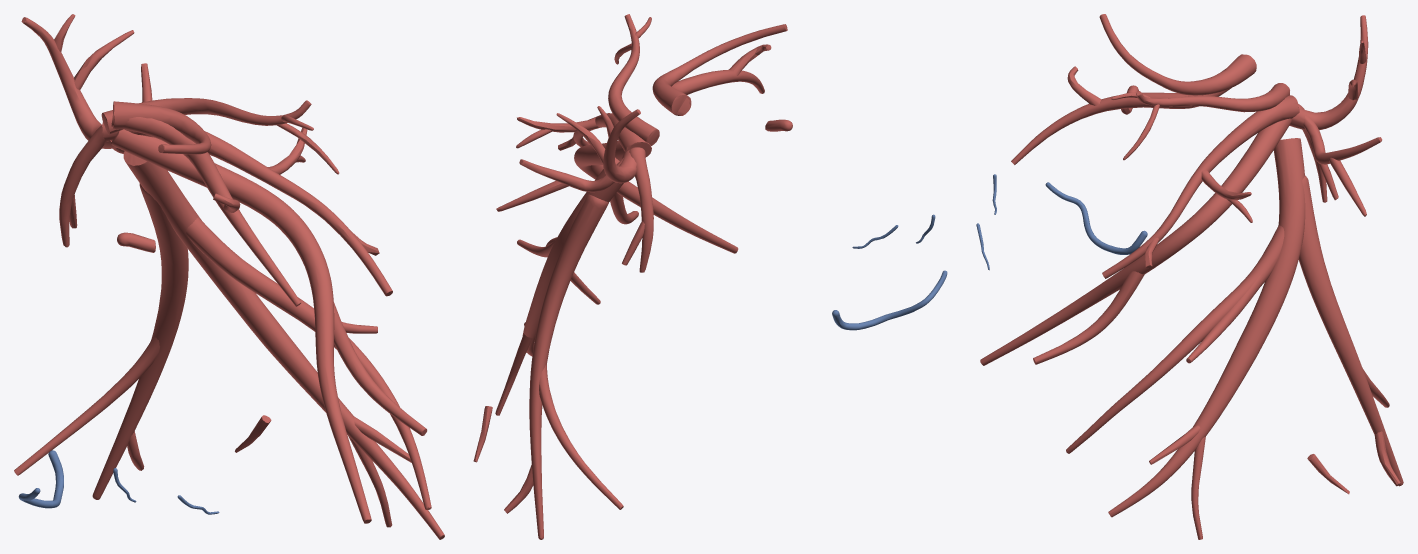
Rendered from thorax-9.glb.
3 renders of one model, left to right at view 1: azimuth 30°, elevation 25°; view 2: azimuth 150°, elevation 25°; view 3: azimuth 270°, elevation 25°, orthographic. The views are drawn at different scales.
Visible parts, largest first — view 1: FJ2896, FJ2883, FJ2881, FJ2884, FJ2898, FJ2906, FJ2908, FJ2903, FJ2902, FJ2897, FJ2888, FJ2891 (+5 smaller); view 2: FJ2881, FJ2896, FJ2908, FJ2883, FJ2902, FJ2903, FJ2891, FJ2906, FJ2888, FJ2894, FJ2731, FJ2898 (+3 smaller); view 3: FJ2883, FJ2896, FJ2881, FJ2884, FJ2898, FJ2908, FJ2906, FJ2902, FJ2897, FJ2888, FJ2894, FJ2885 (+4 smaller).
Part boxes in pixels (box(x1,y1,x2,y2)): FJ2896: box(111, 129, 371, 523); FJ2883: box(123, 151, 444, 539); FJ2881: box(92, 183, 188, 499); FJ2884: box(186, 217, 431, 509); FJ2898: box(102, 122, 392, 296); FJ2906: box(111, 111, 300, 306); FJ2908: box(112, 101, 211, 154); FJ2903: box(14, 337, 159, 475); FJ2902: box(101, 98, 311, 134); FJ2897: box(333, 302, 427, 435); FJ2888: box(21, 17, 116, 148); FJ2891: box(59, 125, 104, 247); FJ2881: box(529, 194, 608, 539); FJ2896: box(574, 141, 738, 253); FJ2908: box(652, 24, 787, 115); FJ2883: box(522, 157, 623, 356); FJ2902: box(608, 14, 659, 145); FJ2903: box(539, 364, 623, 509); FJ2891: box(629, 147, 653, 272); FJ2906: box(672, 69, 764, 114); FJ2888: box(603, 109, 640, 183); FJ2894: box(519, 158, 623, 192); FJ2731: box(832, 270, 947, 330); FJ2898: box(573, 113, 651, 156); FJ2883: box(1108, 138, 1305, 517); FJ2896: box(980, 118, 1291, 365); FJ2881: box(1298, 175, 1403, 486); FJ2884: box(1066, 225, 1284, 453); FJ2898: box(1102, 95, 1299, 278); FJ2908: box(1099, 14, 1256, 95); FJ2906: box(1011, 88, 1231, 164); FJ2902: box(1136, 83, 1289, 112); FJ2897: box(1033, 271, 1144, 364); FJ2888: box(1289, 15, 1368, 130); FJ2894: box(1303, 116, 1382, 164); FJ2885: box(1186, 275, 1263, 363).
Bounding box in the file's own units: 0.1457 × 0.1617 × 0.1447.
